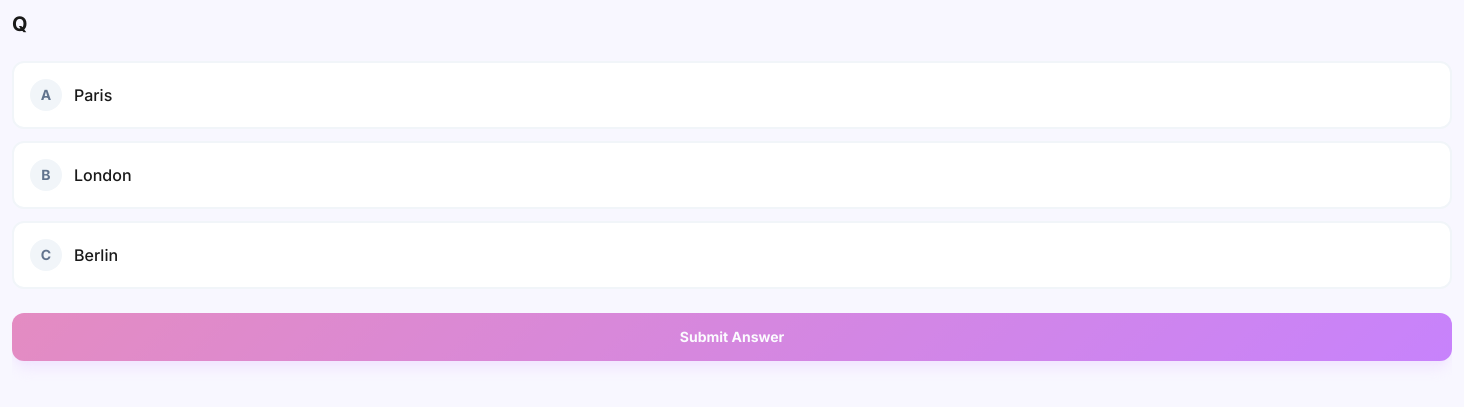
Scenario: MCQCard › shows the explanation after submitting, when provided
Expected: the text "Explanation" is not shown
Click the text "Paris" at x=93, y=95, box [74,83,112,107]
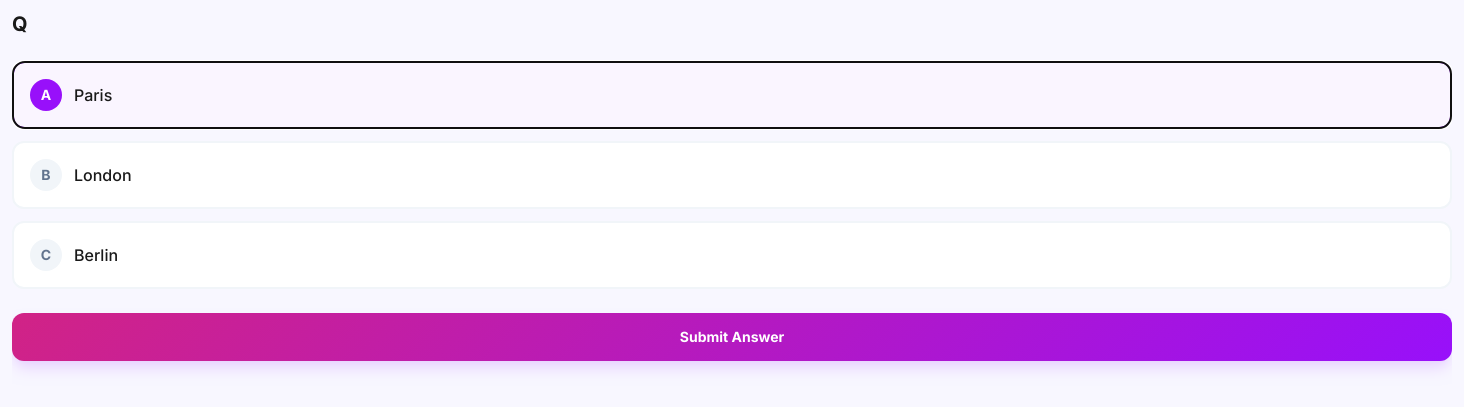
Click the button "Submit Answer" at x=732, y=337, box [12,313,1452,361]
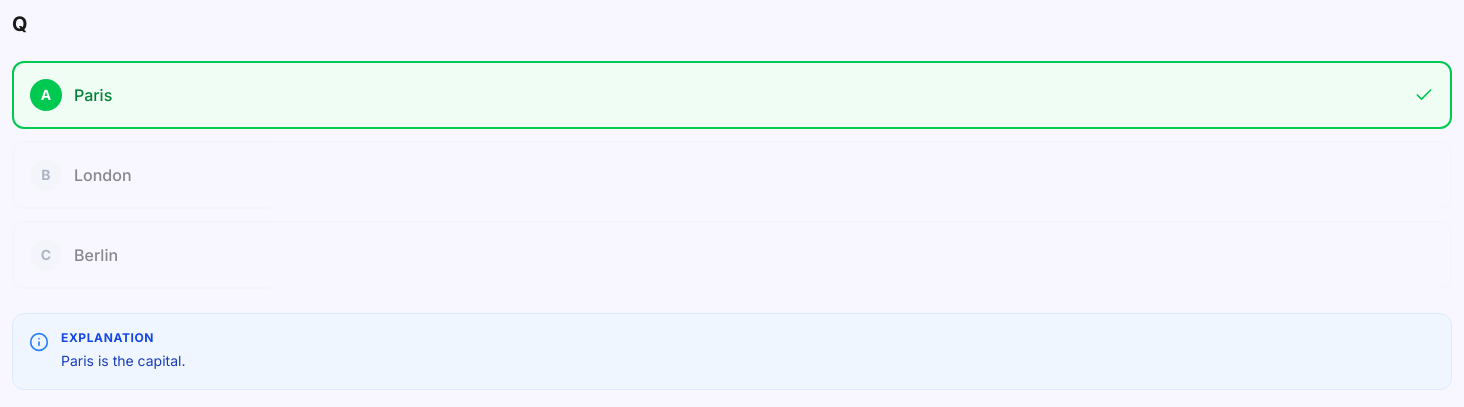
Result: the text "Explanation" is shown at [61,330,154,345]
Result: the text "Paris is the capital." is shown at [61,350,186,373]
